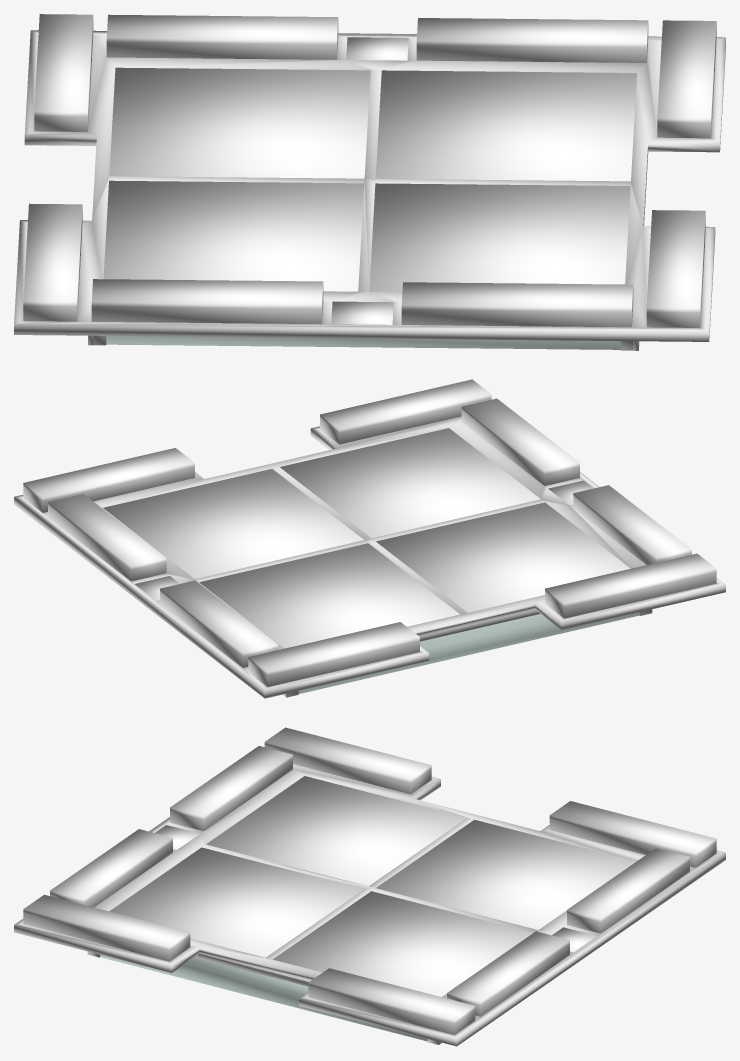
File: TAV-Decke.fbx
3 renders of one model, top to bottom at view 1: azimuth 30°, elevation 25°; view 2: azimuth 150°, elevation 25°; view 3: azimuth 270°, elevation 25°, orthographic. The views are drawn at different scales.
Parts seen in each view (by area): view 1: GDLM8_builtInMatLampBulb; view 2: GDLM8_builtInMatLampBulb; view 3: GDLM8_builtInMatLampBulb.
Boxes of the visible parts, box(x1,y1,x2,y2) form: GDLM8_builtInMatLampBulb: box(14, 14, 725, 350); GDLM8_builtInMatLampBulb: box(14, 379, 725, 698); GDLM8_builtInMatLampBulb: box(14, 727, 725, 1046).
Size of the model in its own units: 519 by 42 by 520.
